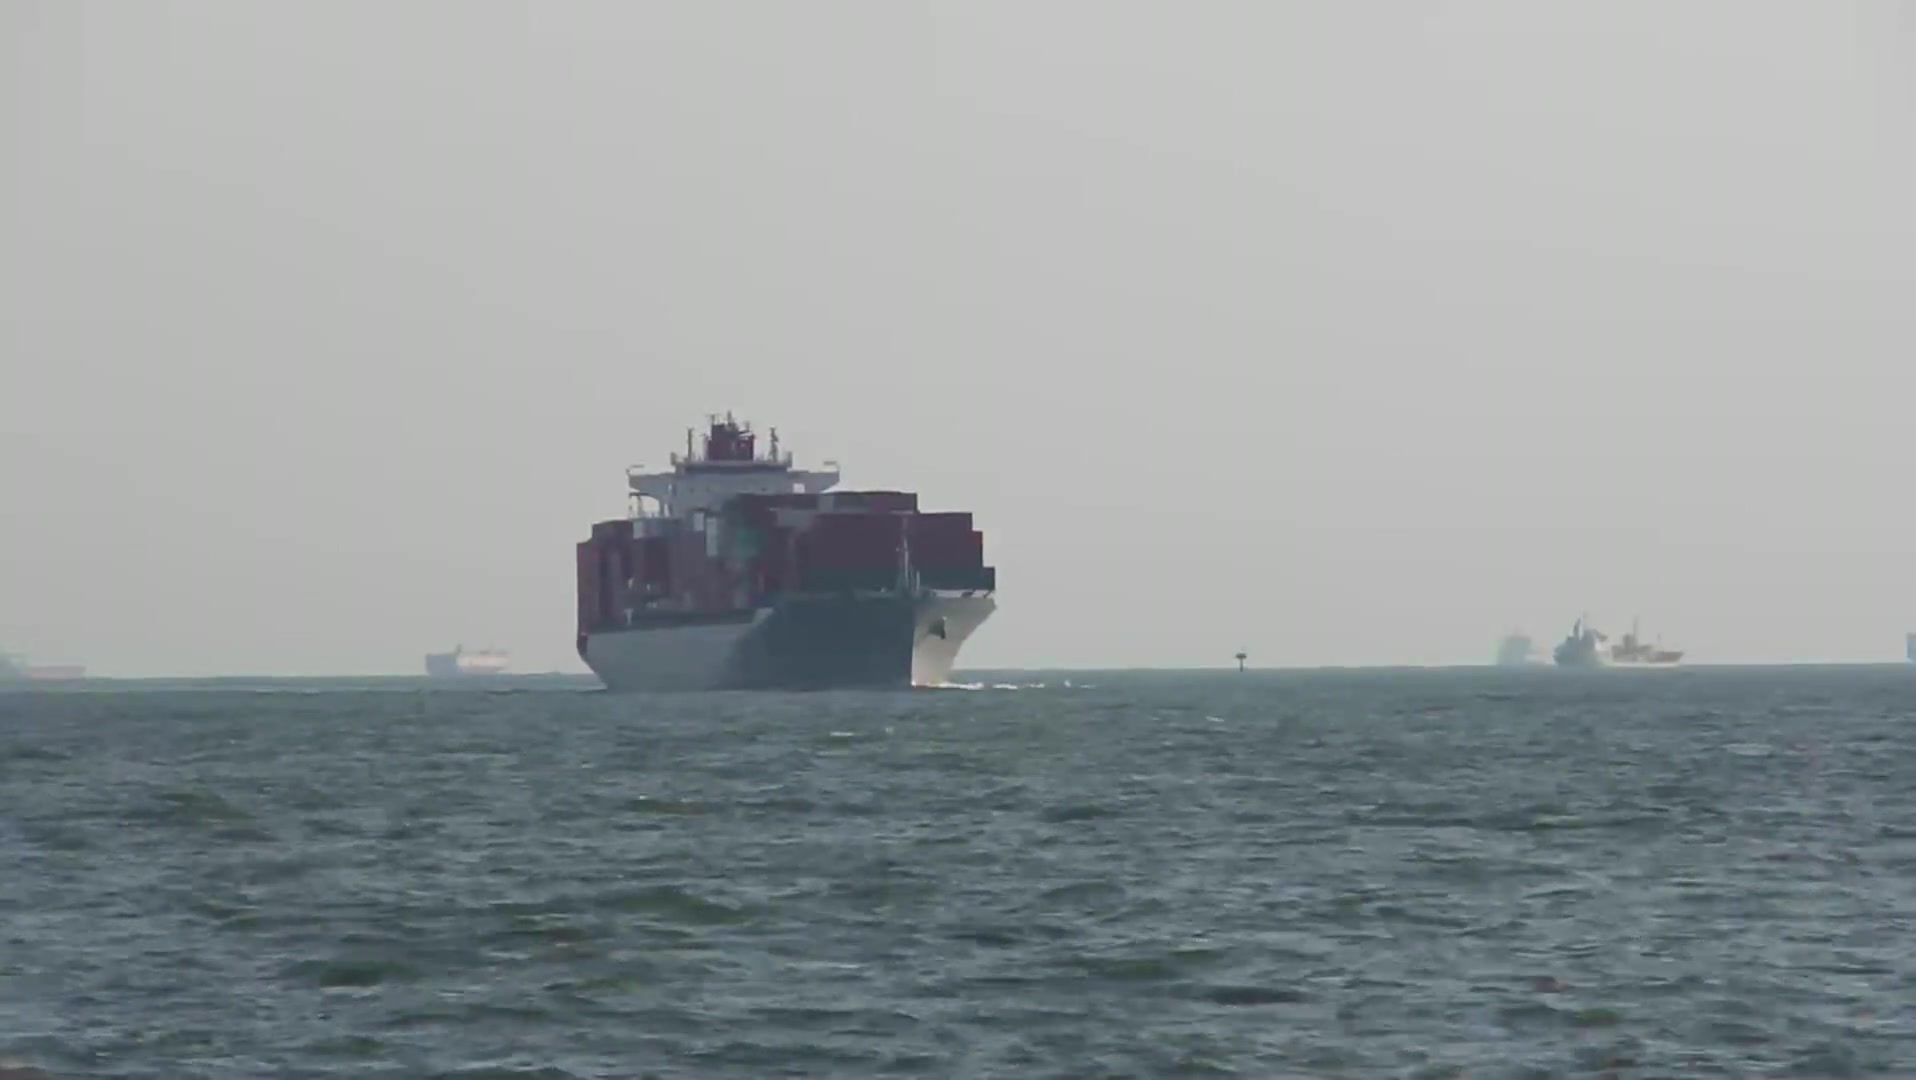boat: (575, 422, 1000, 699), (1500, 617, 1695, 680), (409, 643, 526, 679), (1, 652, 93, 695)
